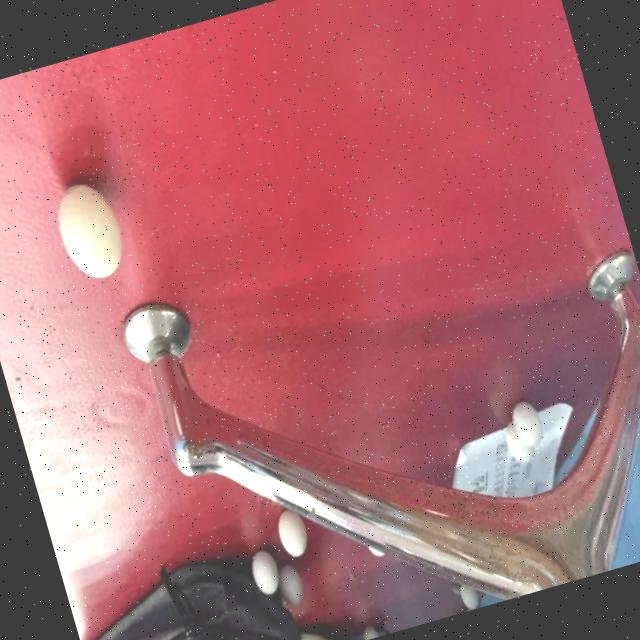ping-pong-ball: (46, 171, 132, 291), (270, 502, 314, 563), (242, 542, 286, 602), (504, 394, 548, 453)
